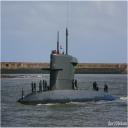submarine: (23, 25, 124, 102)
